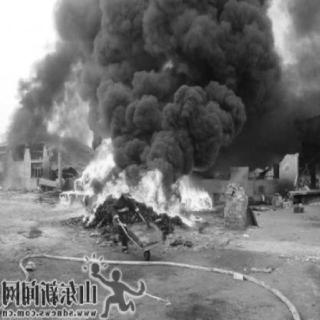Smoke: (69, 0, 268, 172)
